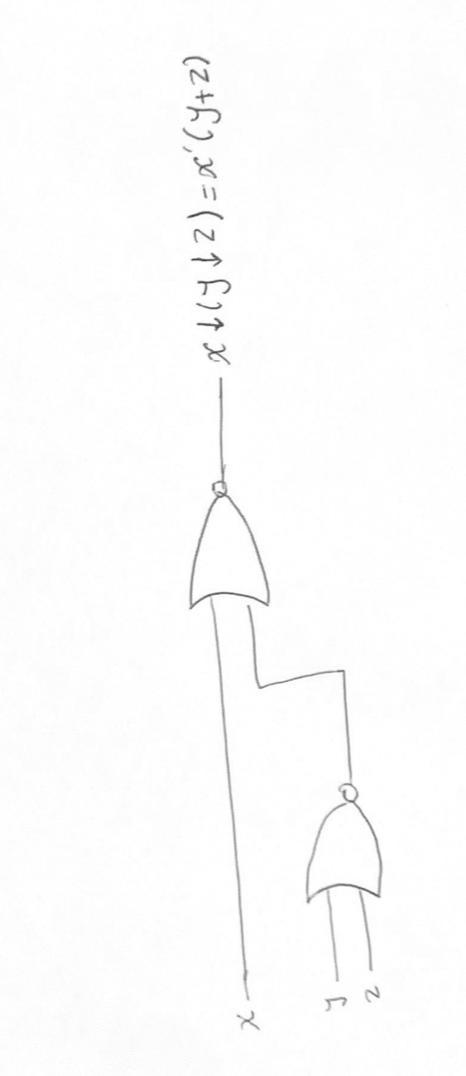NOR: (173, 470, 301, 624), (280, 772, 408, 913)
